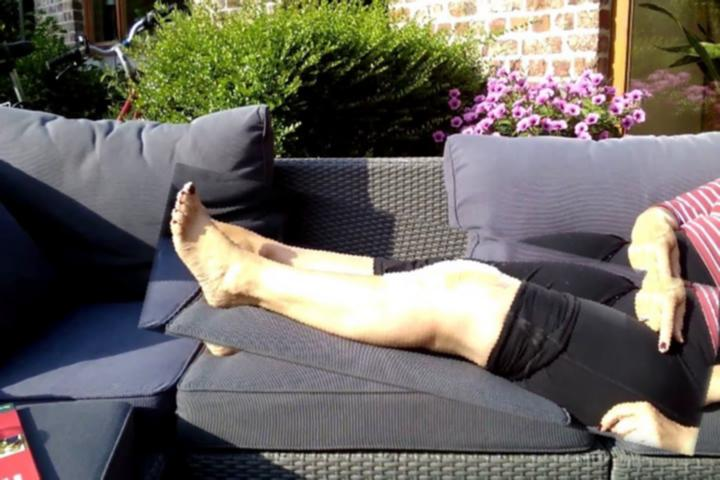lowerbody: (145, 194, 720, 426)
